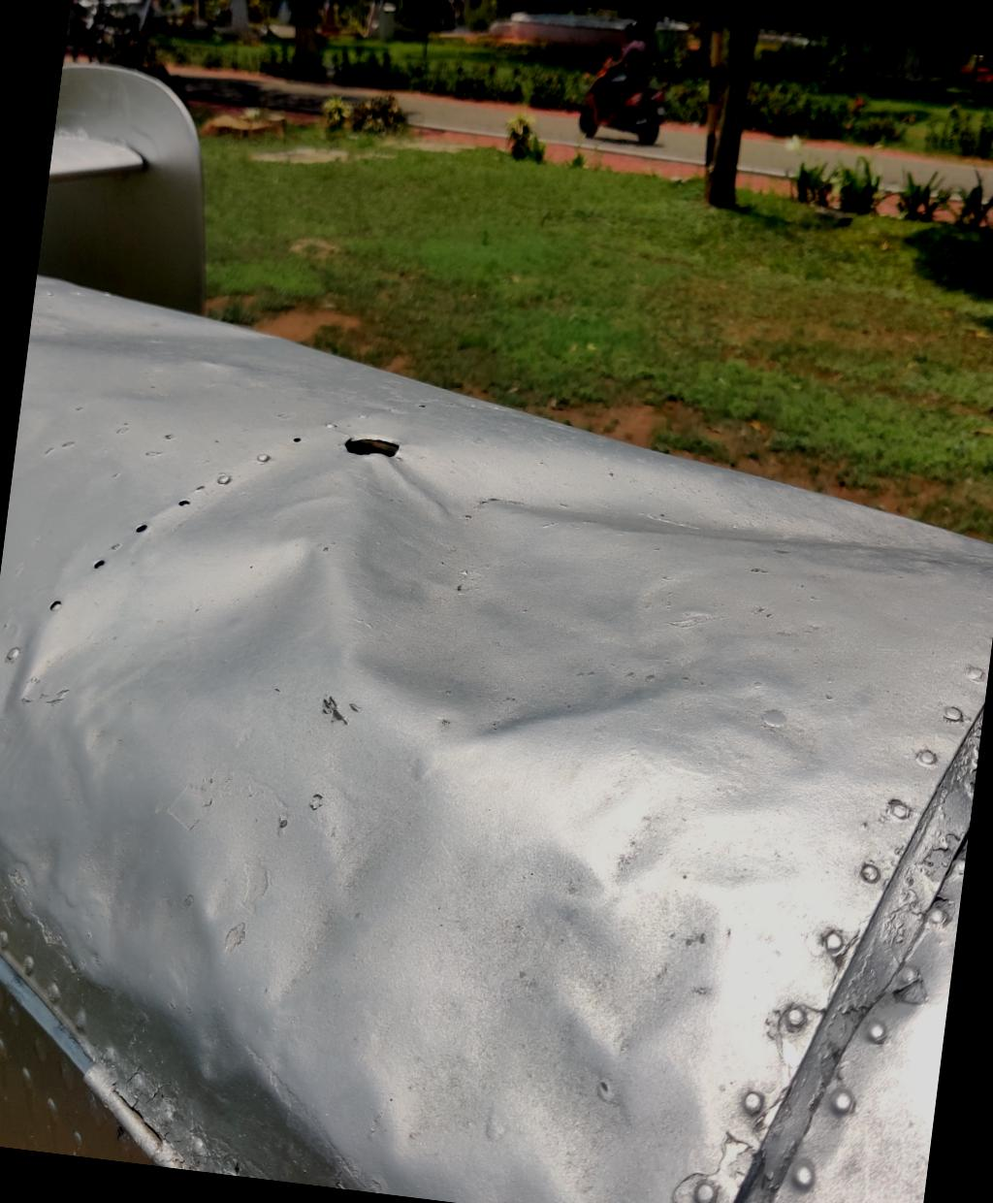dent: (294, 464, 704, 811), (0, 449, 356, 803), (482, 806, 755, 1107)
